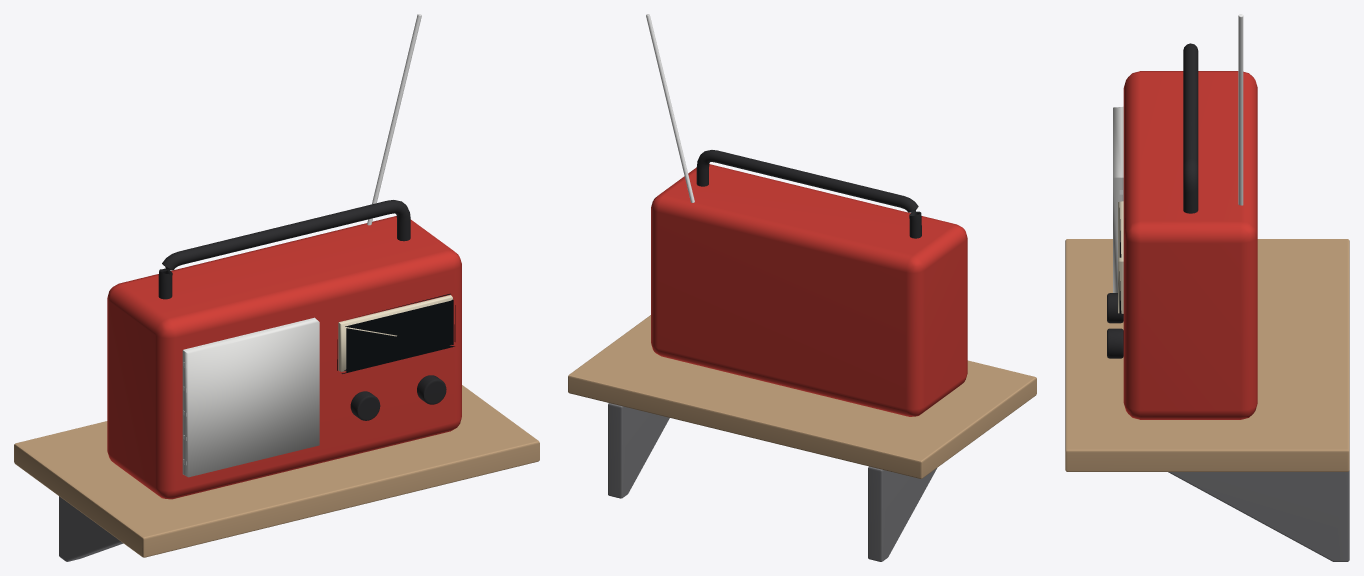
The model's file is industrial.workshop.shed_radio.glb.
The picture shows the model from 3 angles, left to right: view 1: azimuth 30°, elevation 25°; view 2: azimuth 150°, elevation 25°; view 3: azimuth 270°, elevation 25°; orthographic projection. The views are drawn at different scales.
Visible parts, largest first — view 1: main__paint_c33, main__timber_ca7, main__paint_eed, main__paint_222, main__glass_dark, main__galv_777, main__paint_edc, main__chrome_eee; view 2: main__paint_c33, main__timber_ca7, main__galv_777, main__paint_222, main__chrome_eee; view 3: main__paint_c33, main__timber_ca7, main__galv_777, main__paint_222, main__paint_eed, main__chrome_eee, main__paint_edc.
Part boxes in pixels (<box>): main__paint_c33: <box>107,216,461,499</box>; main__timber_ca7: <box>14,385,539,557</box>; main__paint_eed: <box>182,317,319,477</box>; main__paint_222: <box>158,200,446,420</box>; main__glass_dark: <box>337,293,455,373</box>; main__galv_777: <box>59,496,123,561</box>; main__paint_edc: <box>338,295,452,371</box>; main__chrome_eee: <box>183,14,421,464</box>; main__paint_c33: <box>651,164,967,416</box>; main__timber_ca7: <box>568,315,1036,478</box>; main__galv_777: <box>608,403,936,561</box>; main__paint_222: <box>696,150,921,238</box>; main__chrome_eee: <box>646,14,694,202</box>; main__paint_c33: <box>1123,71,1257,419</box>; main__timber_ca7: <box>1065,239,1349,471</box>; main__galv_777: <box>1168,470,1349,561</box>; main__paint_222: <box>1107,43,1198,358</box>; main__paint_eed: <box>1113,106,1123,292</box>; main__chrome_eee: <box>1119,14,1243,205</box>; main__paint_edc: <box>1118,201,1123,313</box>.
Bounding box in the file's own units: 0.6 × 0.7254 × 0.34.
